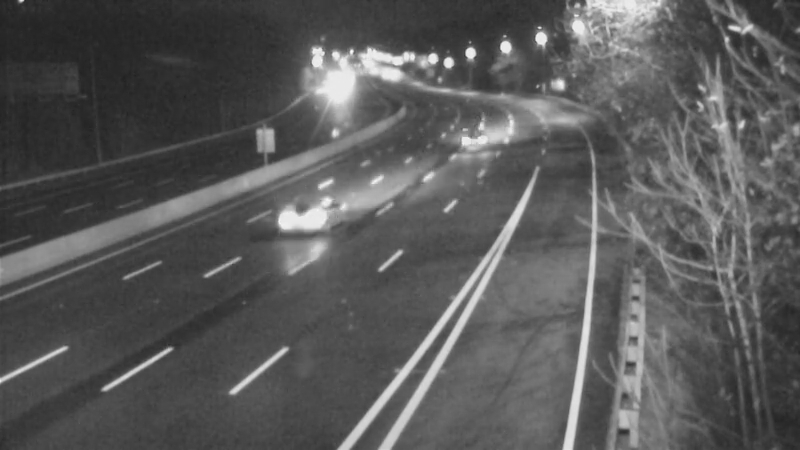vehicle: (254, 185, 334, 265), (452, 108, 502, 158), (308, 66, 358, 116)
